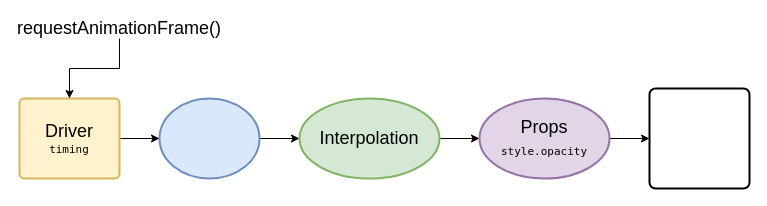
This 767x206 diagram has some shape labels left out. Each missing label, with the centre of its shape:
Value 0.1: pixel 209 138
View: pixel 699 138
